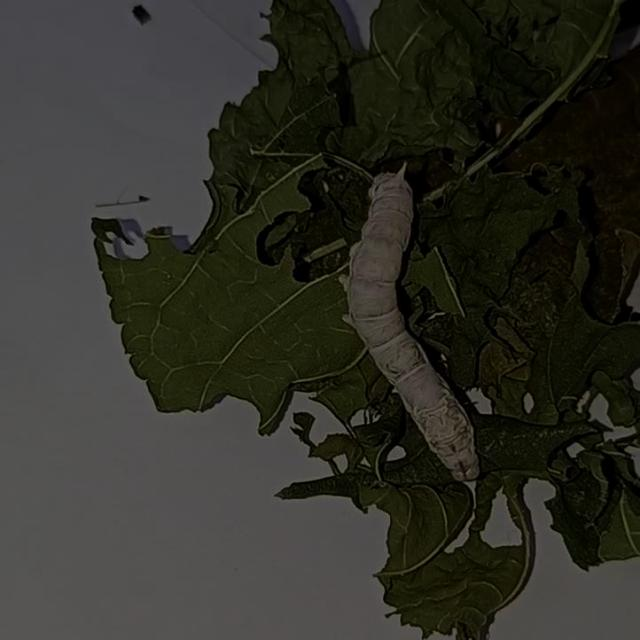Healthy: (309, 151, 525, 506)
